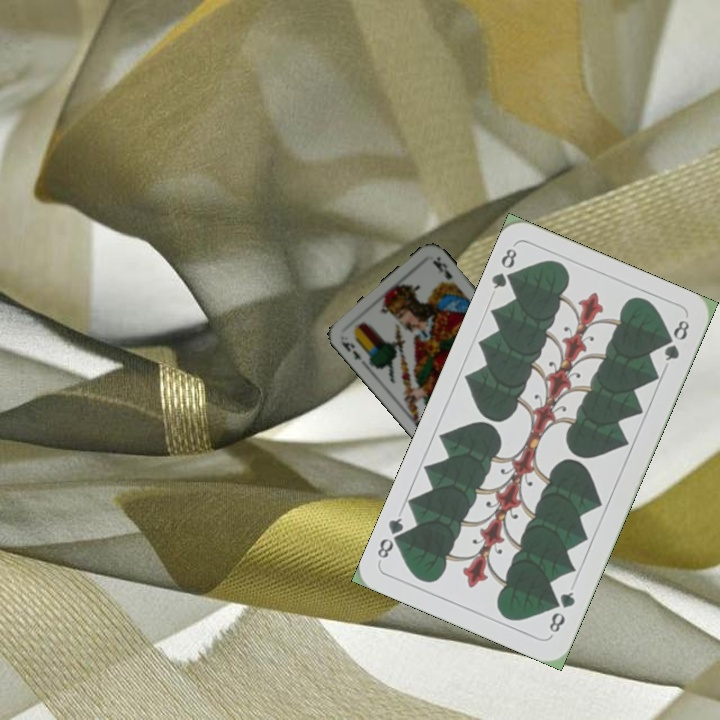EK: (336, 335, 364, 363)
G8: (545, 588, 578, 638), (487, 244, 521, 292)
